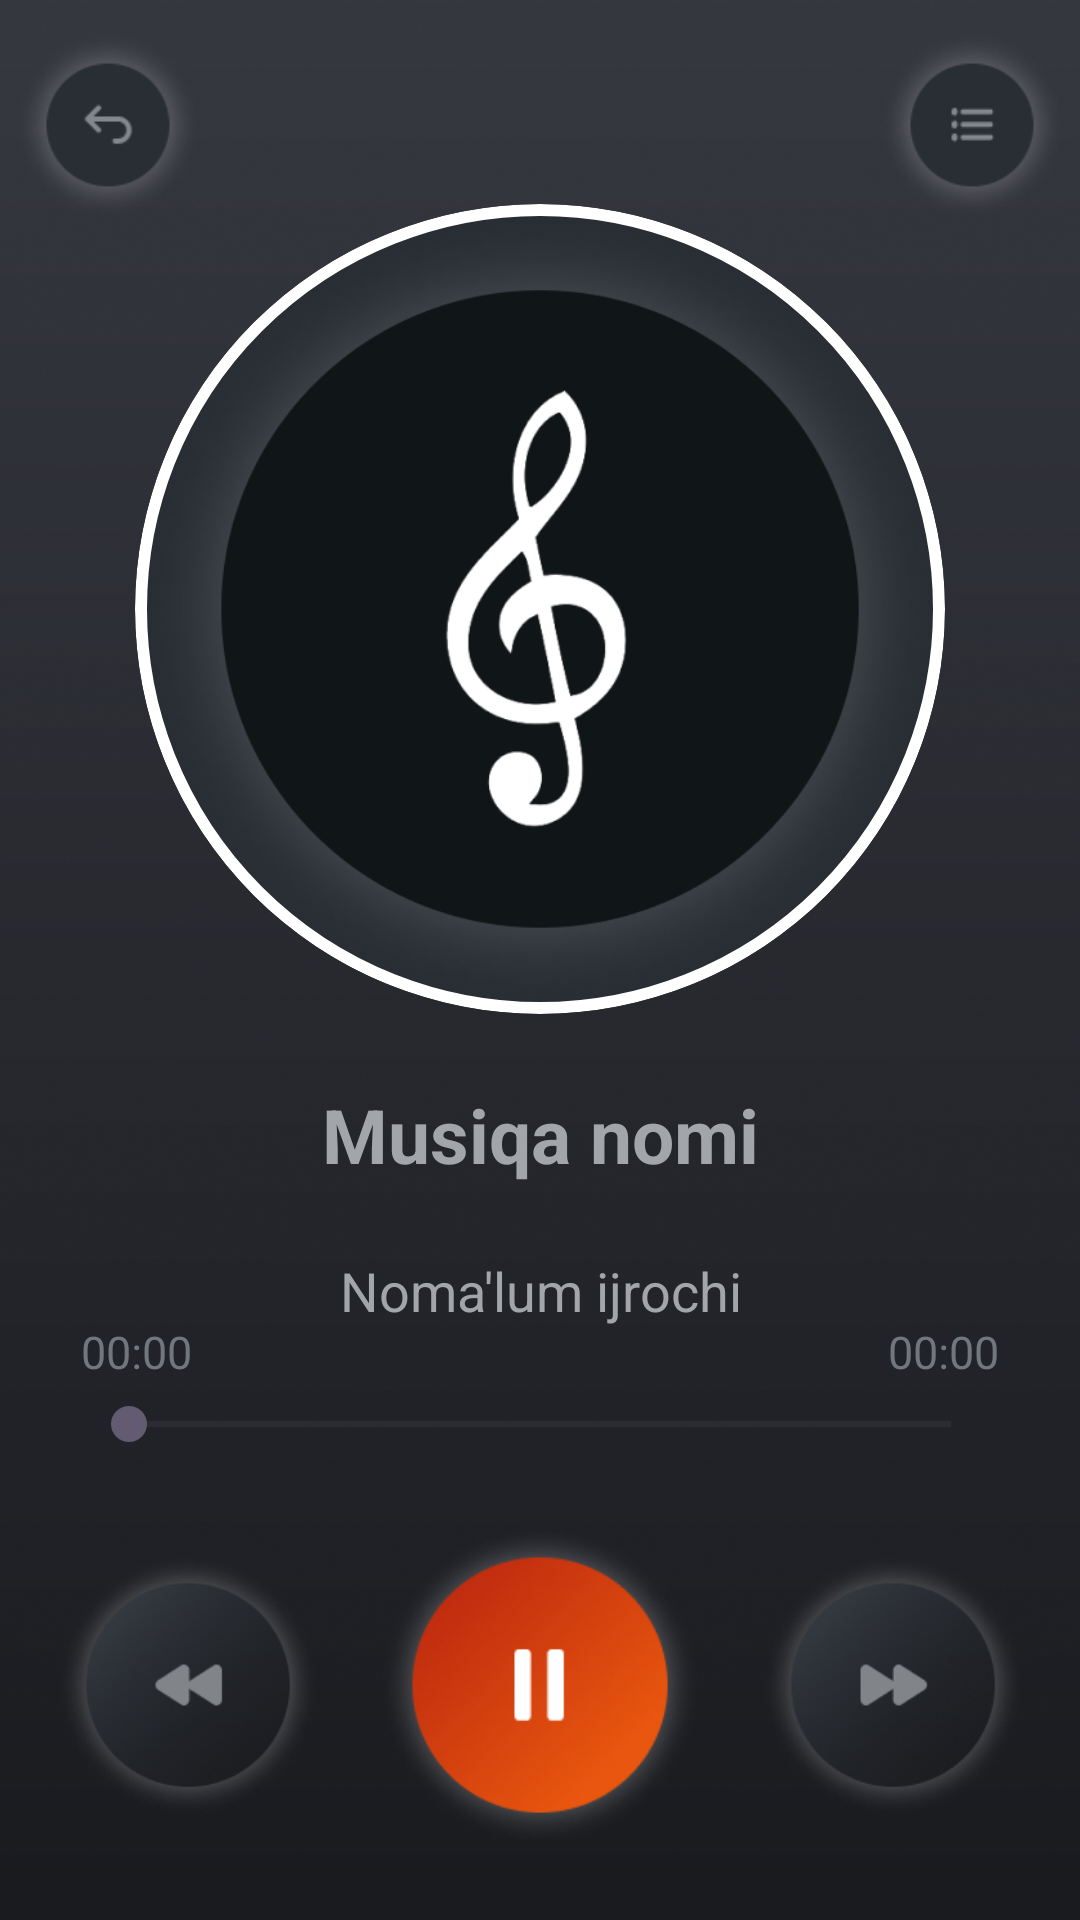

Screen size 1080×1920. Icon name, then its center in pixels as [x,y]:
back player: [108,123]
music menu: [972,123]
music stop: [540,1684]
next: [893,1684]
